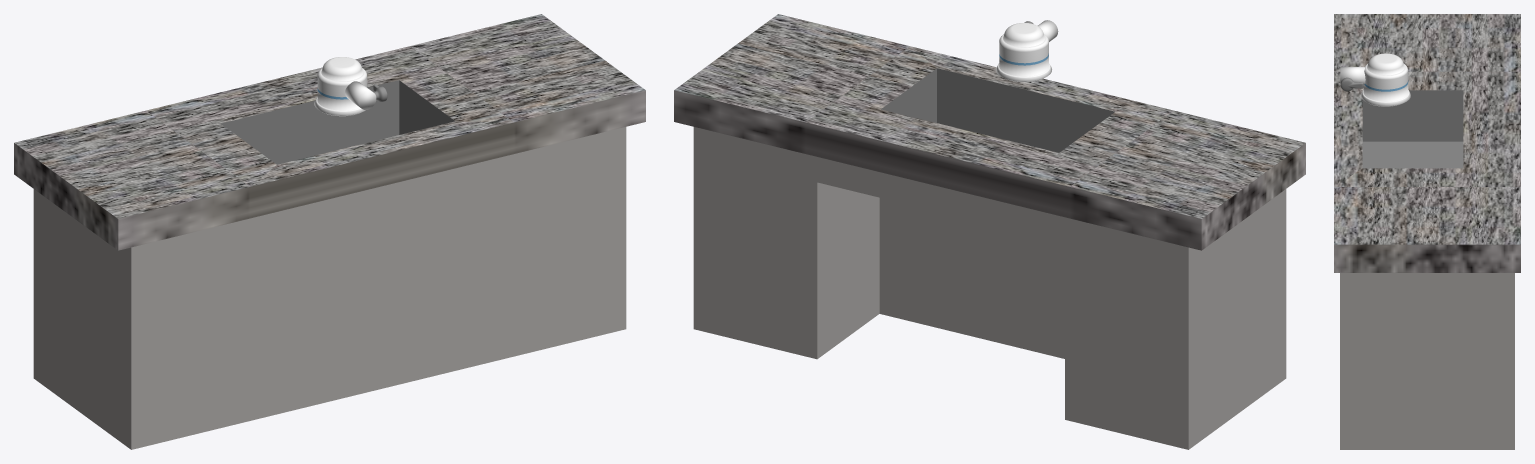
The model's file is Pia.fbx.
3 renders of one model, left to right at view 1: azimuth 30°, elevation 25°; view 2: azimuth 150°, elevation 25°; view 3: azimuth 270°, elevation 25°, orthographic. The views are drawn at different scales.
Parts seen in each view (by area): view 1: Pia, Torneira; view 2: Pia, Torneira; view 3: Pia, Torneira.
Boxes of the visible parts, <box> form: Pia: <box>14,14,645,449</box>; Torneira: <box>314,57,387,116</box>; Pia: <box>674,14,1305,449</box>; Torneira: <box>996,20,1058,82</box>; Pia: <box>1334,14,1520,449</box>; Torneira: <box>1340,53,1410,106</box>.
Bounding box in the file's own units: 719 × 405 × 246.
Materials: 8 (1 with a texture image).
